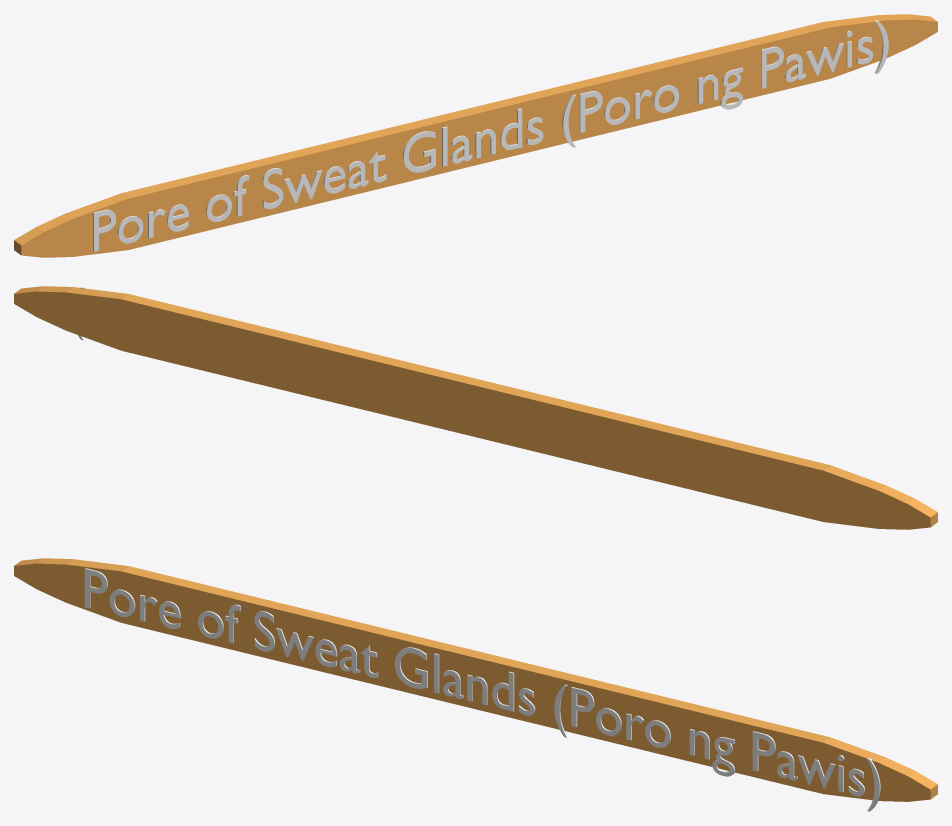
The model's file is txtPoreOfSweatGlands.fbx.
3 renders of one model, top to bottom at view 1: azimuth 30°, elevation 25°; view 2: azimuth 150°, elevation 25°; view 3: azimuth 330°, elevation 25°, orthographic.
Parts seen in each view (by area): view 1: TagContainer.069, Text.070; view 2: TagContainer.069; view 3: TagContainer.069, Text.070.
Boxes of the visible parts, x1=… form: TagContainer.069: x1=14, y1=14, x2=937, y2=257; Text.070: x1=93, y1=20, x2=888, y2=251; TagContainer.069: x1=14, y1=286, x2=937, y2=529; TagContainer.069: x1=14, y1=558, x2=937, y2=801; Text.070: x1=84, y1=568, x2=880, y2=811.
Size of the model in its own units: 770 by 45.66 by 11.92.
